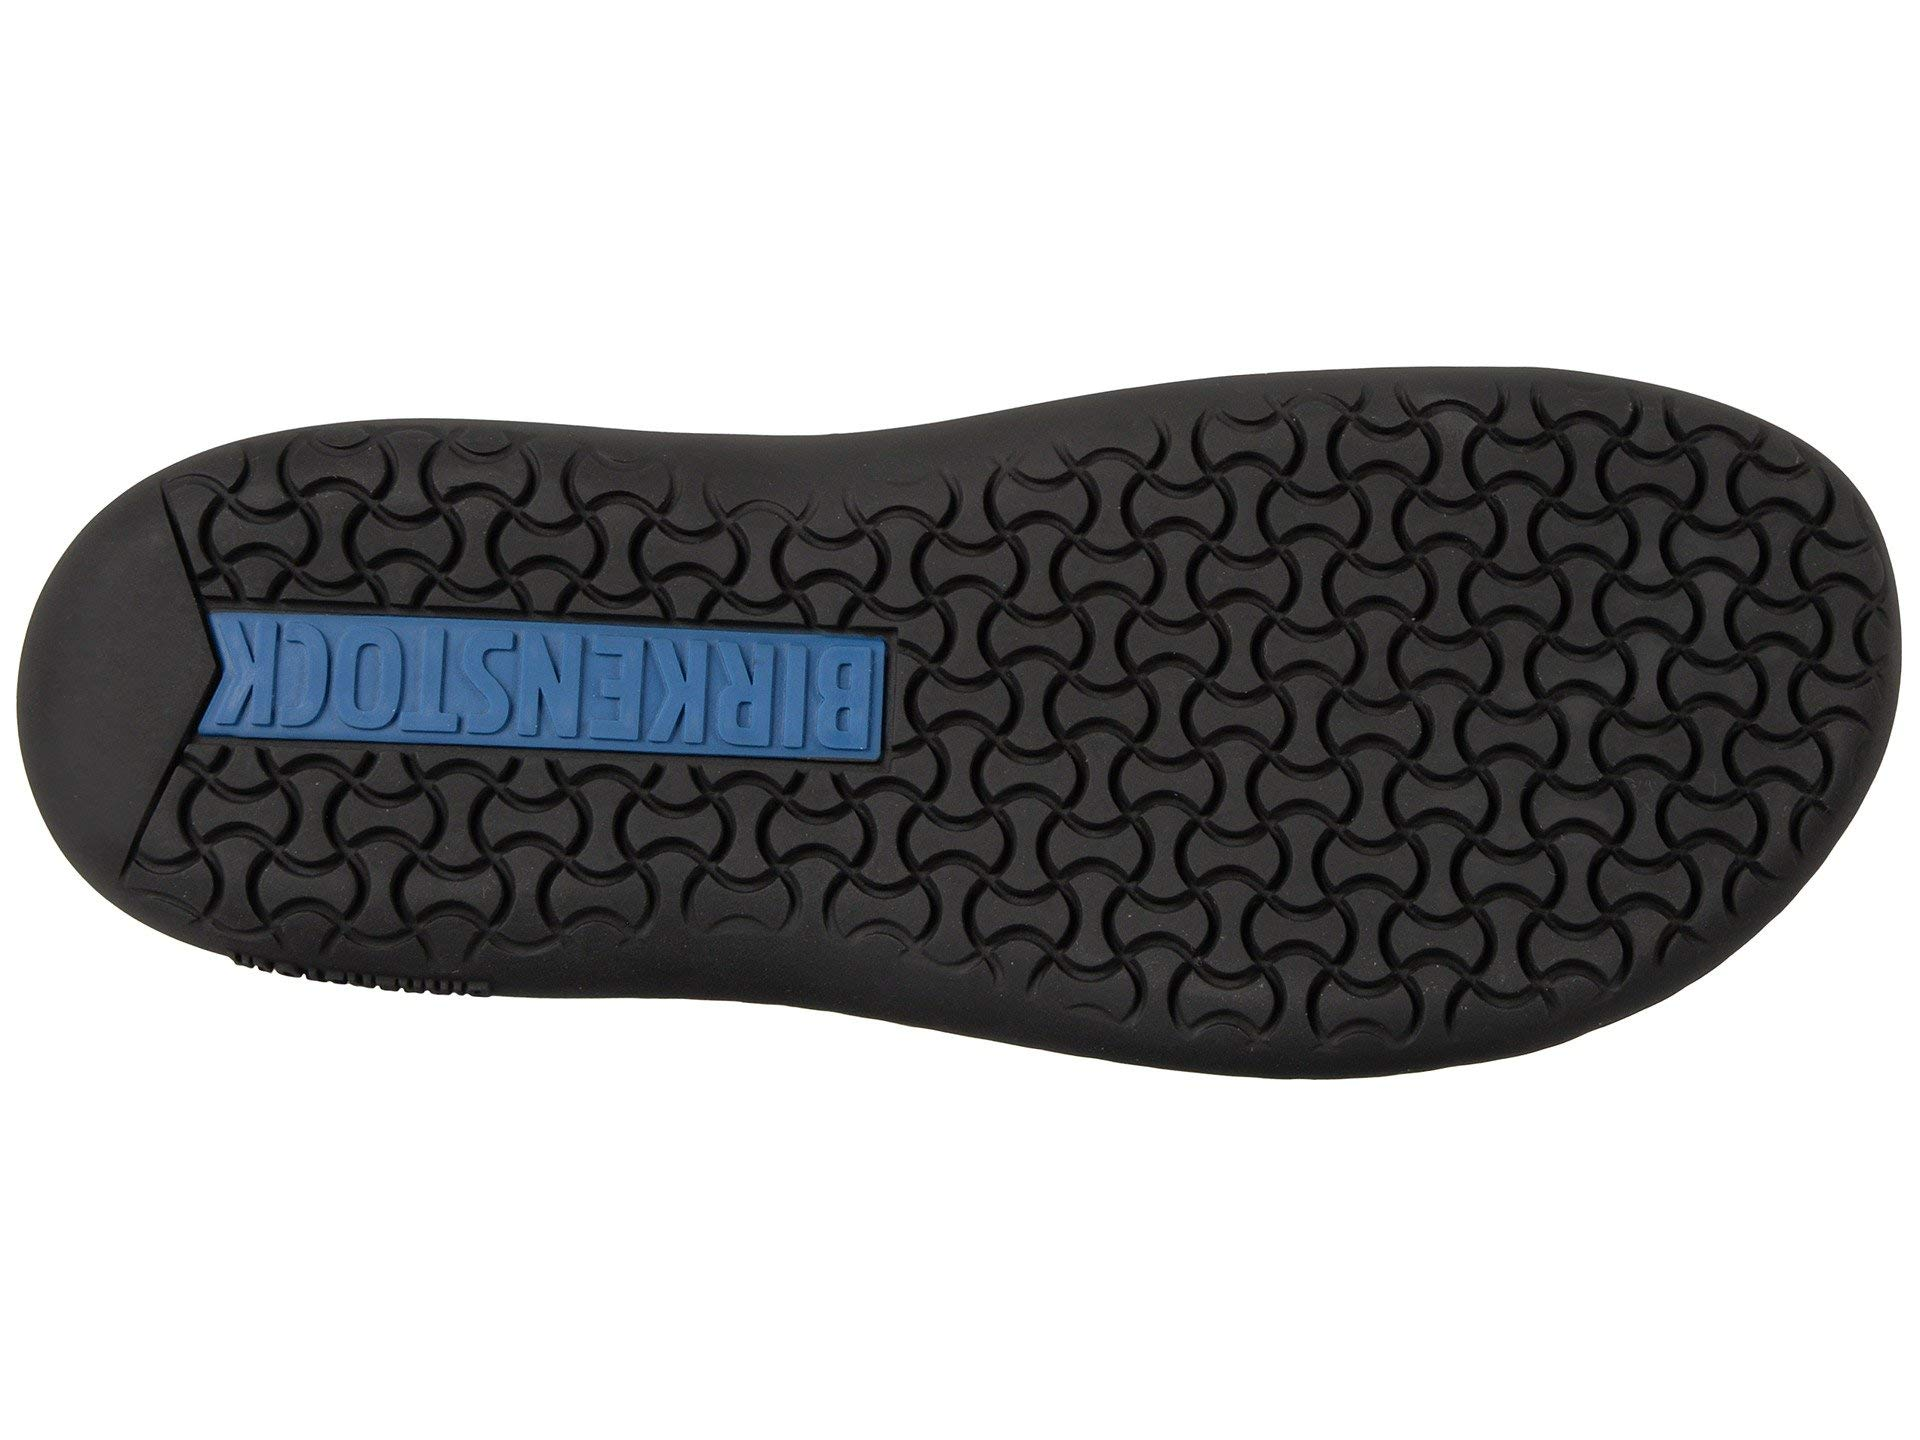bowtie: (992, 448, 1389, 1029), (1406, 389, 1764, 932), (163, 797, 977, 973), (243, 434, 912, 584)
polygon: (187, 594, 915, 784)
